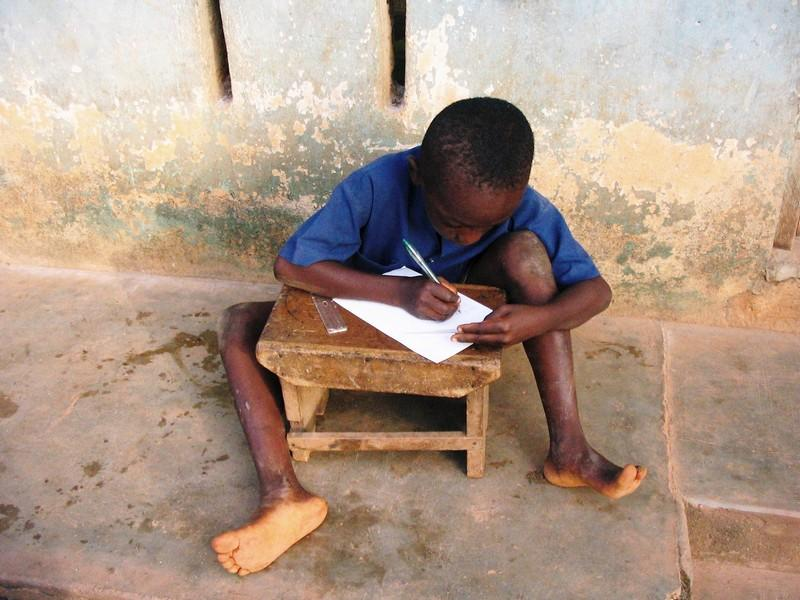person: (213, 94, 648, 579)
